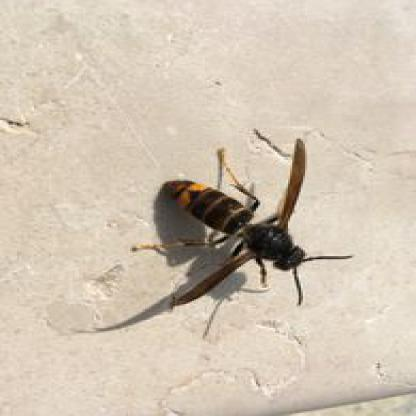Asian Hornet: (152, 142, 330, 309)
